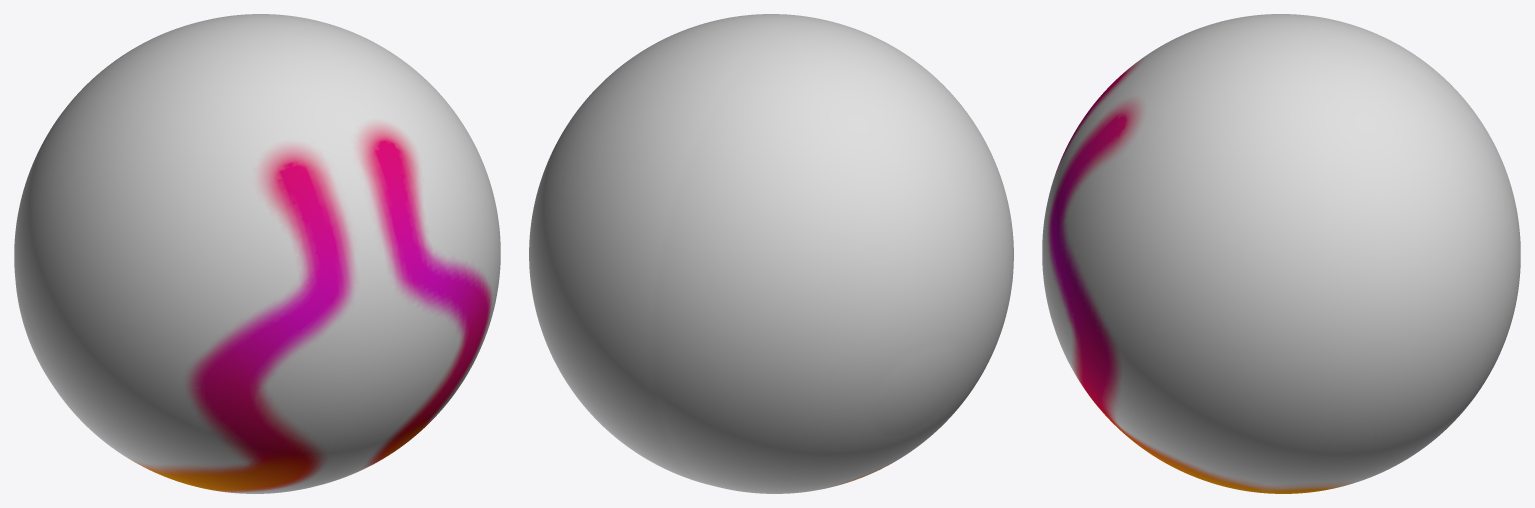
Rendered from painted_sphere.glb.
3 renders of one model, left to right at view 1: azimuth 30°, elevation 25°; view 2: azimuth 150°, elevation 25°; view 3: azimuth 270°, elevation 25°, orthographic.
Parts seen in each view (by area): view 1: m6f1045f; view 2: m6f1045f; view 3: m6f1045f.
Boxes of the visible parts, <box> form: m6f1045f: <box>14,14,500,493</box>; m6f1045f: <box>529,14,1013,493</box>; m6f1045f: <box>1042,14,1520,493</box>.
Bounding box in the file's own units: 0.2613 × 0.2568 × 0.2574.
